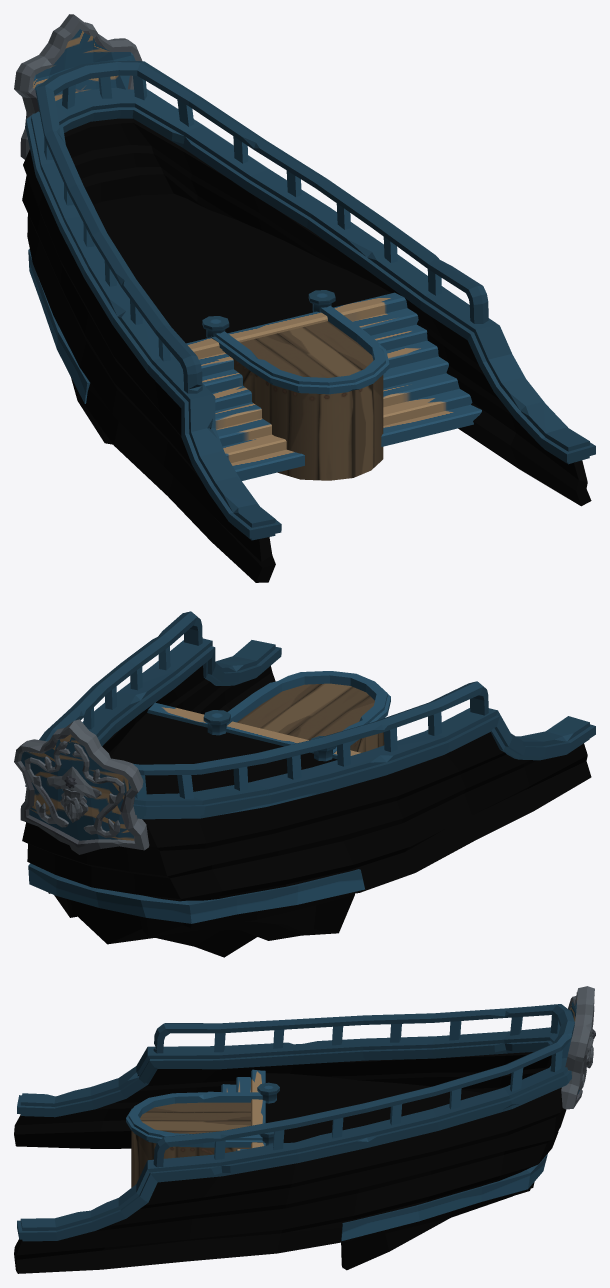
The model's file is SM_Veh_Ship_M_Back_01.fbx.
3 views of the same model, one above another, from view 1: azimuth 30°, elevation 25°; view 2: azimuth 150°, elevation 25°; view 3: azimuth 270°, elevation 25° (orthographic). The views are drawn at different scales.
Parts seen in each view (by area): view 1: SM_Veh_Ship_M_Back_01; view 2: SM_Veh_Ship_M_Back_01; view 3: SM_Veh_Ship_M_Back_01.
Boxes of the visible parts, x1,y1,x2,y2 form: SM_Veh_Ship_M_Back_01: [14, 14, 595, 582]; SM_Veh_Ship_M_Back_01: [14, 611, 595, 957]; SM_Veh_Ship_M_Back_01: [14, 986, 595, 1273].
Size of the model in its own units: 690 by 661 by 1234.
